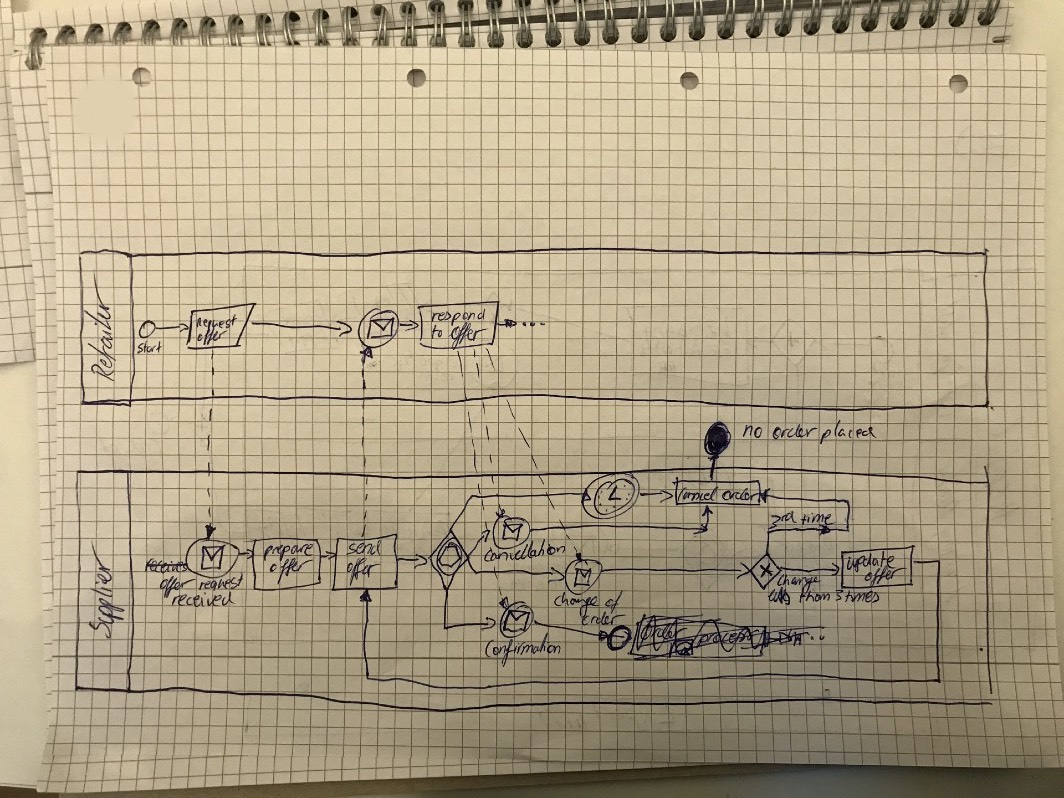3: (833, 588, 844, 604)
3rd: (769, 510, 796, 530)
Retailer: (86, 272, 116, 387)
Start: (133, 340, 163, 358)
Supplier: (85, 538, 122, 637)
cancel: (676, 485, 718, 503)
cancellation: (484, 540, 567, 563)
change: (552, 590, 600, 616), (777, 572, 820, 591)
confirmation: (484, 638, 559, 659)
no: (740, 423, 766, 442)
of: (602, 590, 625, 615)
offer: (446, 320, 491, 346), (266, 560, 310, 582), (156, 573, 191, 599), (863, 566, 906, 586), (343, 562, 378, 586), (193, 331, 229, 343)
order: (579, 612, 627, 631), (772, 423, 813, 443), (721, 486, 756, 503)
placed: (818, 419, 878, 445)
prepare: (264, 541, 313, 556)
received: (171, 590, 233, 610)
request: (200, 574, 249, 591), (196, 314, 235, 327)
respond: (428, 306, 487, 319)
send: (345, 542, 388, 559)
than: (798, 589, 832, 605)
time: (795, 511, 835, 526)
times: (843, 590, 882, 605)
to: (426, 321, 445, 345)
update: (845, 552, 895, 573)
